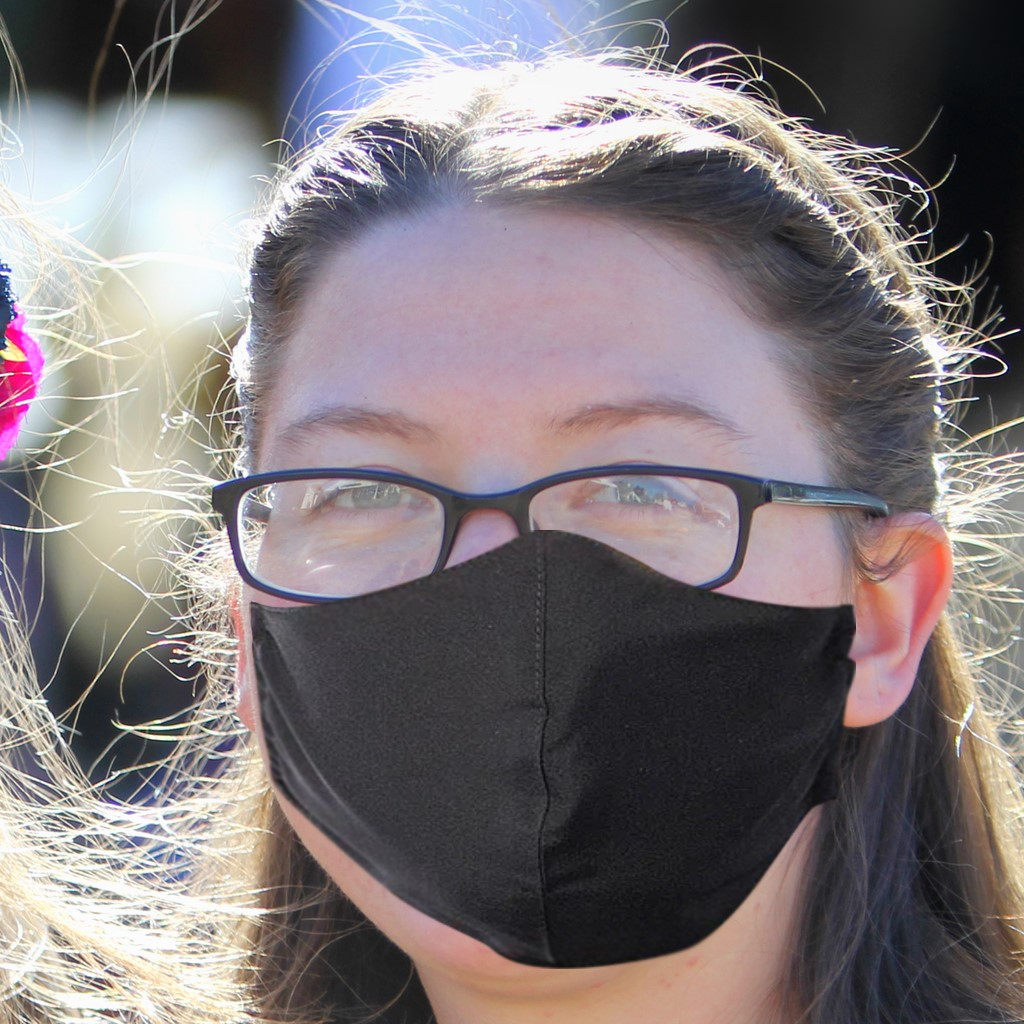con_mascara: (226, 154, 915, 991)
